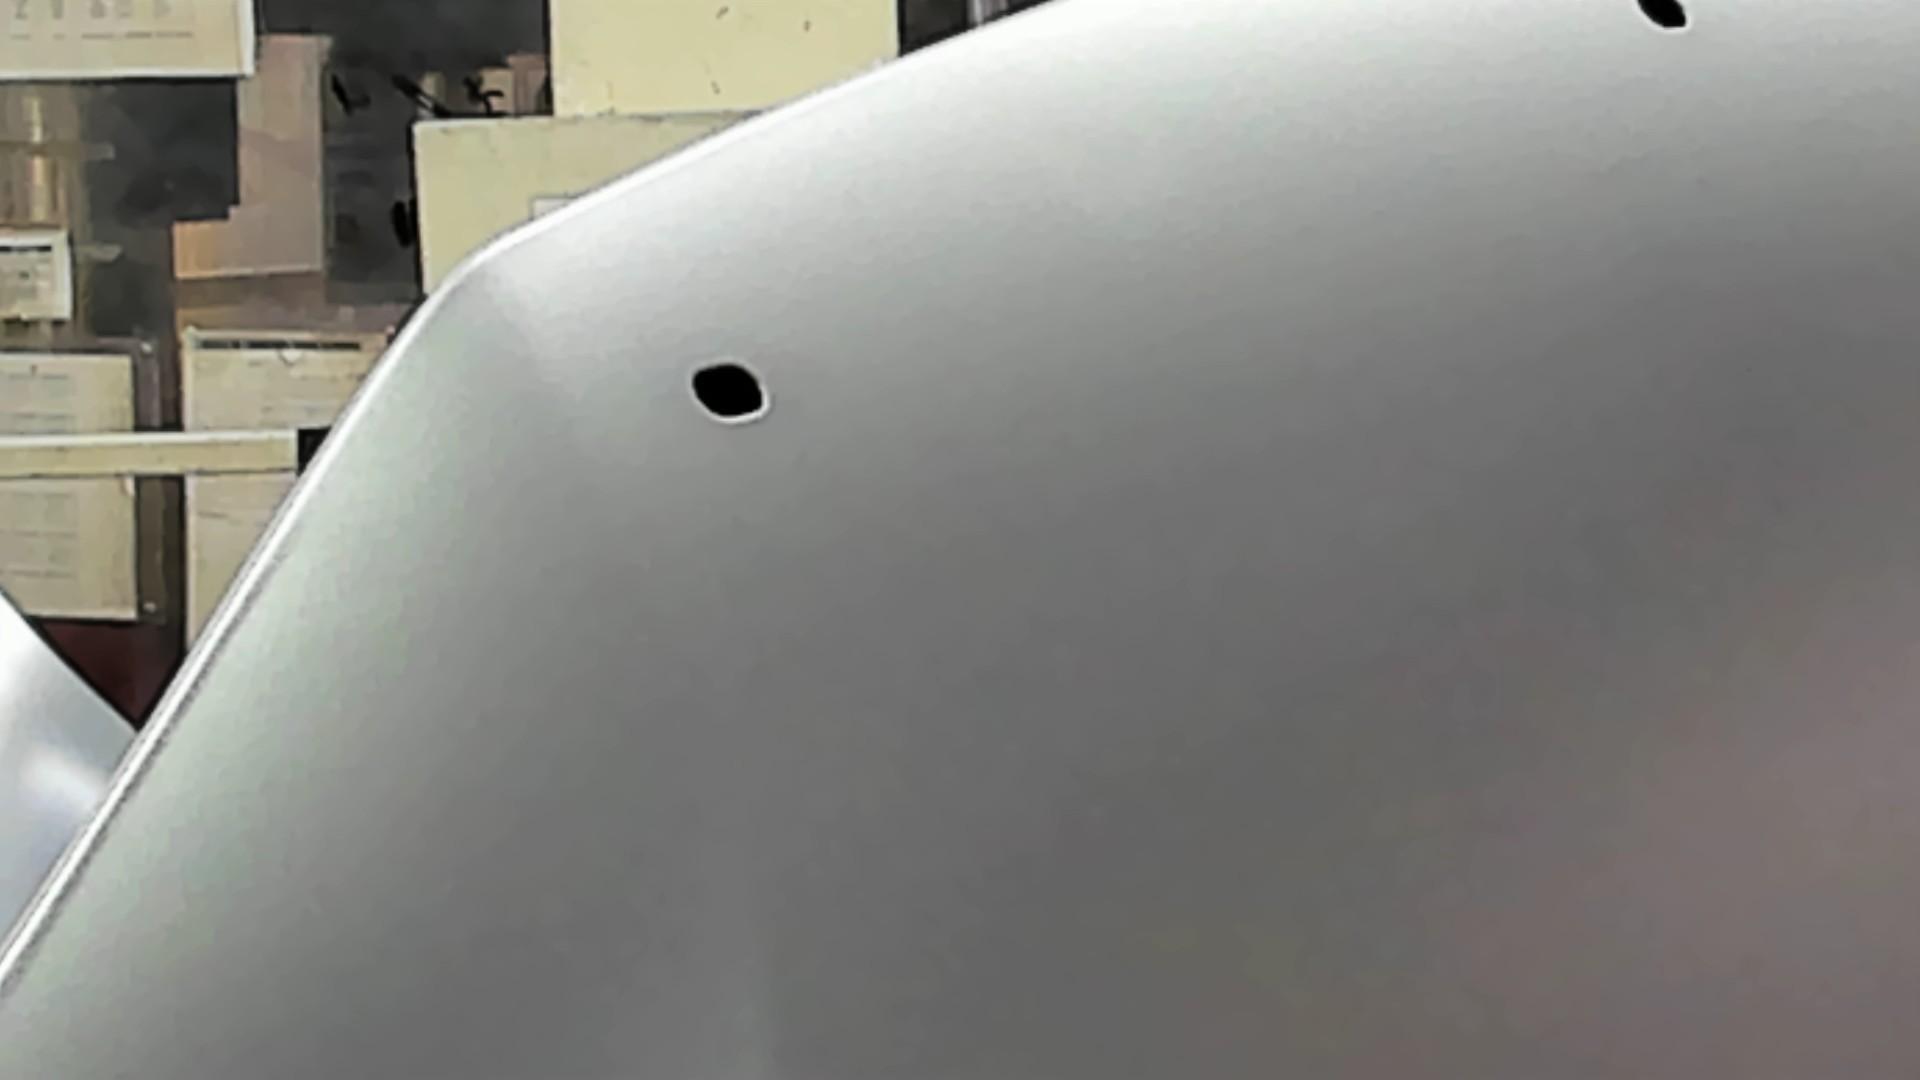amorfo: (680, 355, 773, 427), (1633, 1, 1693, 33)
capo: (847, 115, 1920, 1080)
